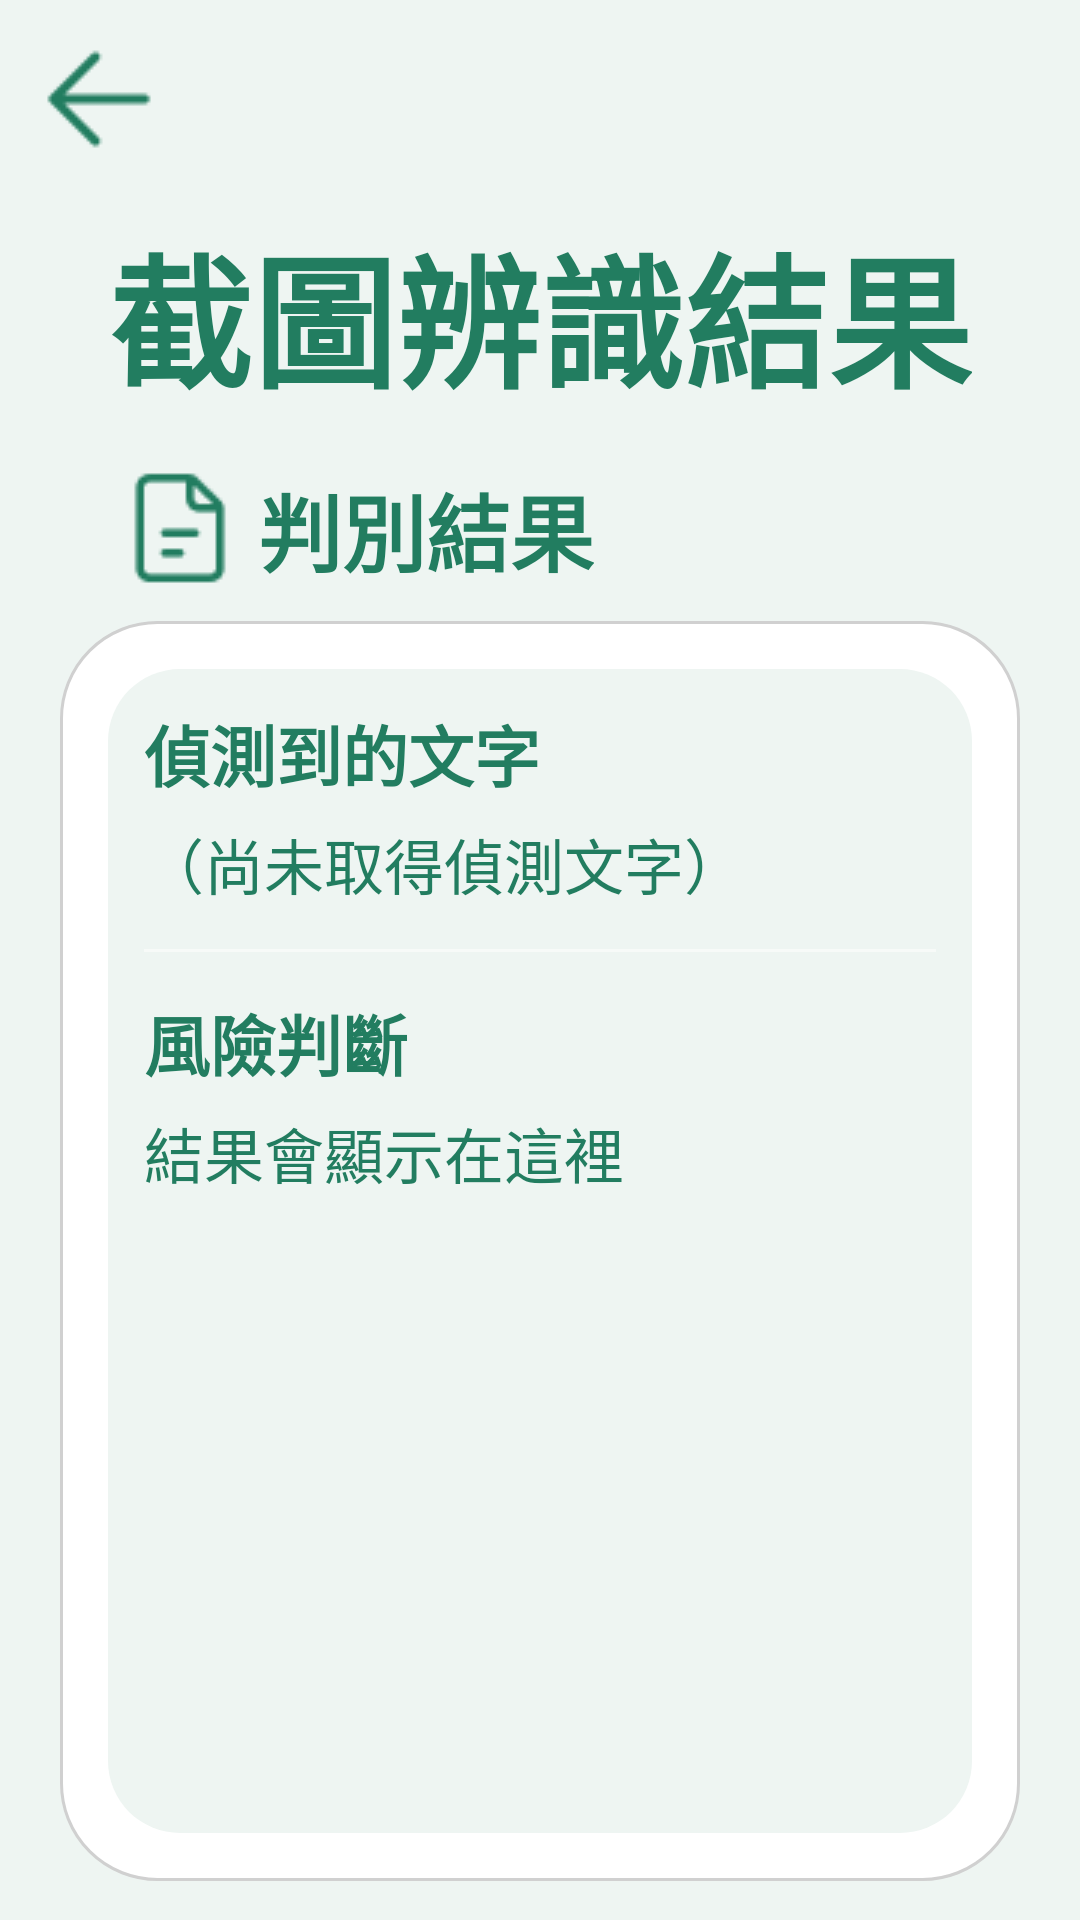

Icons on this 1080px×1920px Android screen, each with its box as (left=x1, top=y1, right=x2, bottom=y2):
檔案圖示: (left=134, top=473, right=226, bottom=583)
返回: (left=47, top=50, right=151, bottom=148)
